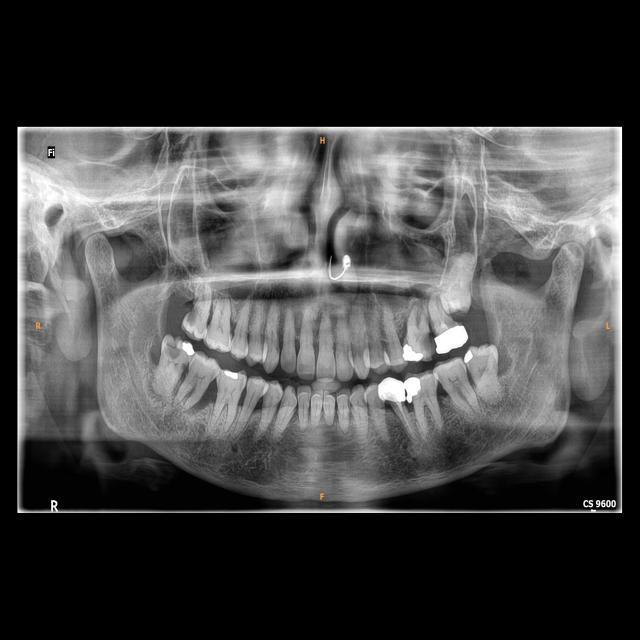dentin-curugu: (166, 343, 182, 360)
dolgu: (398, 336, 426, 364), (403, 377, 430, 402), (216, 365, 245, 386), (461, 348, 488, 368), (180, 339, 197, 363)
kanal-tedavisi: (392, 402, 414, 443)
kaplama: (433, 324, 469, 356), (374, 375, 408, 406)
